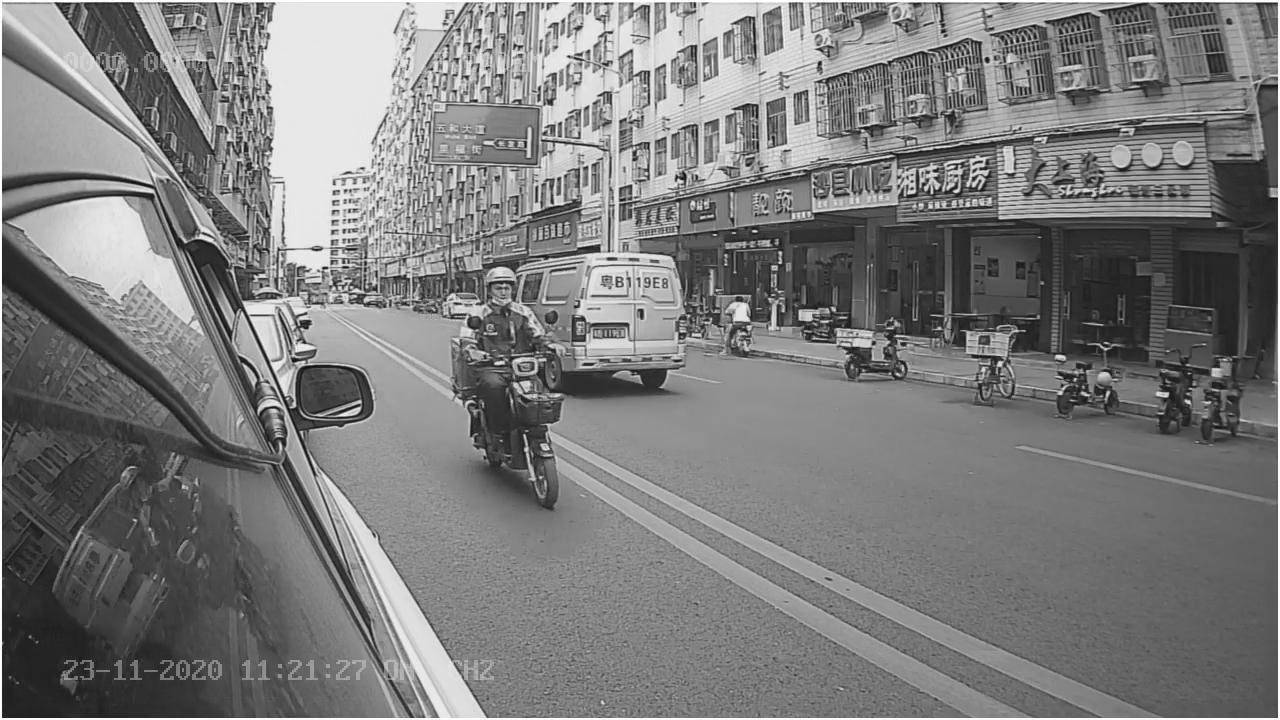person: (450, 267, 573, 360)
